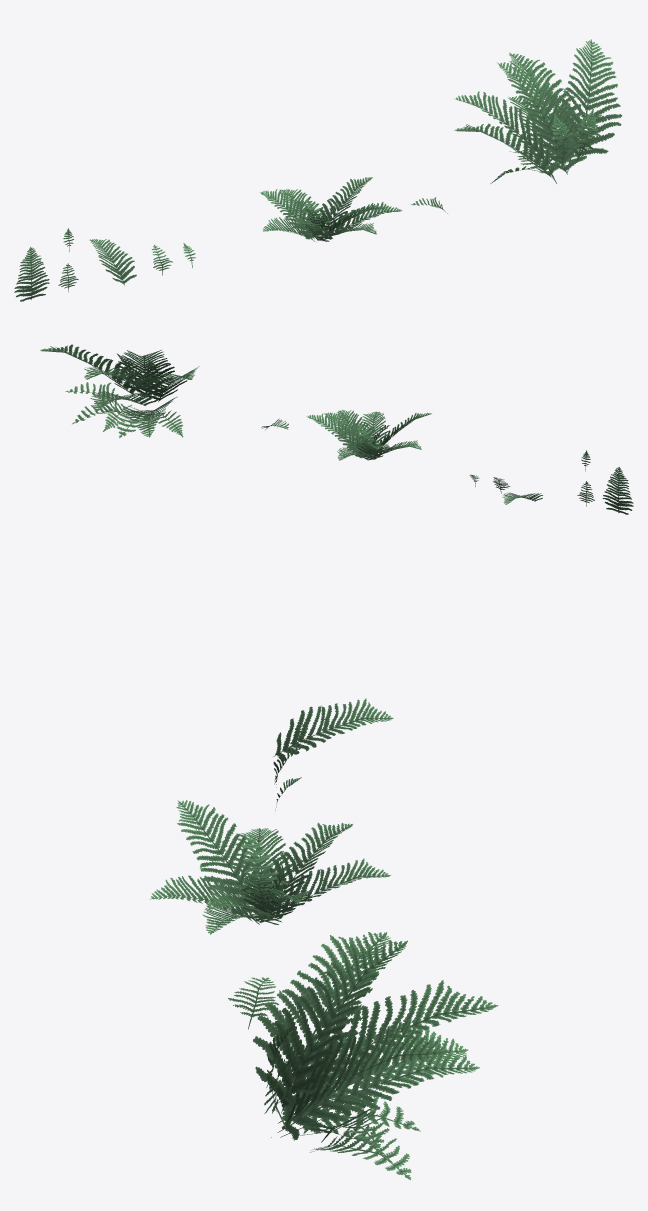
Rendered from pine_tall_02.glb.
3 views of the same model, one above another, from view 1: azimuth 30°, elevation 25°; view 2: azimuth 150°, elevation 25°; view 3: azimuth 270°, elevation 25° (orthographic). The views are drawn at different scales.
Visible parts, largest first — view 1: pine_tall_02; view 2: pine_tall_02; view 3: pine_tall_02.
Part boxes in pixels (x1=…): pine_tall_02: x1=14, y1=39, x2=622, y2=301; pine_tall_02: x1=40, y1=344, x2=633, y2=514; pine_tall_02: x1=149, y1=698, x2=498, y2=1180.
Size of the model in its own units: 23.9 by 4.2 by 6.95.
Materials: 1 (1 with a texture image).
